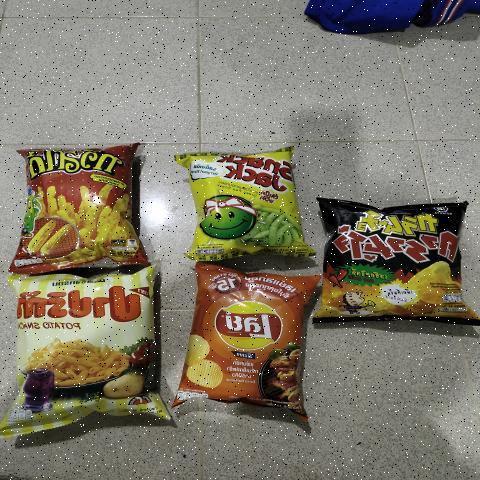karamujo: (321, 207, 459, 320)
paprika: (17, 280, 158, 413)
snack_jack: (200, 150, 294, 258)
twisco: (16, 144, 134, 272)
